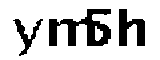6: (83, 6, 116, 53)
h: (118, 7, 148, 50)
m: (47, 15, 95, 54)
y: (5, 16, 42, 60)
